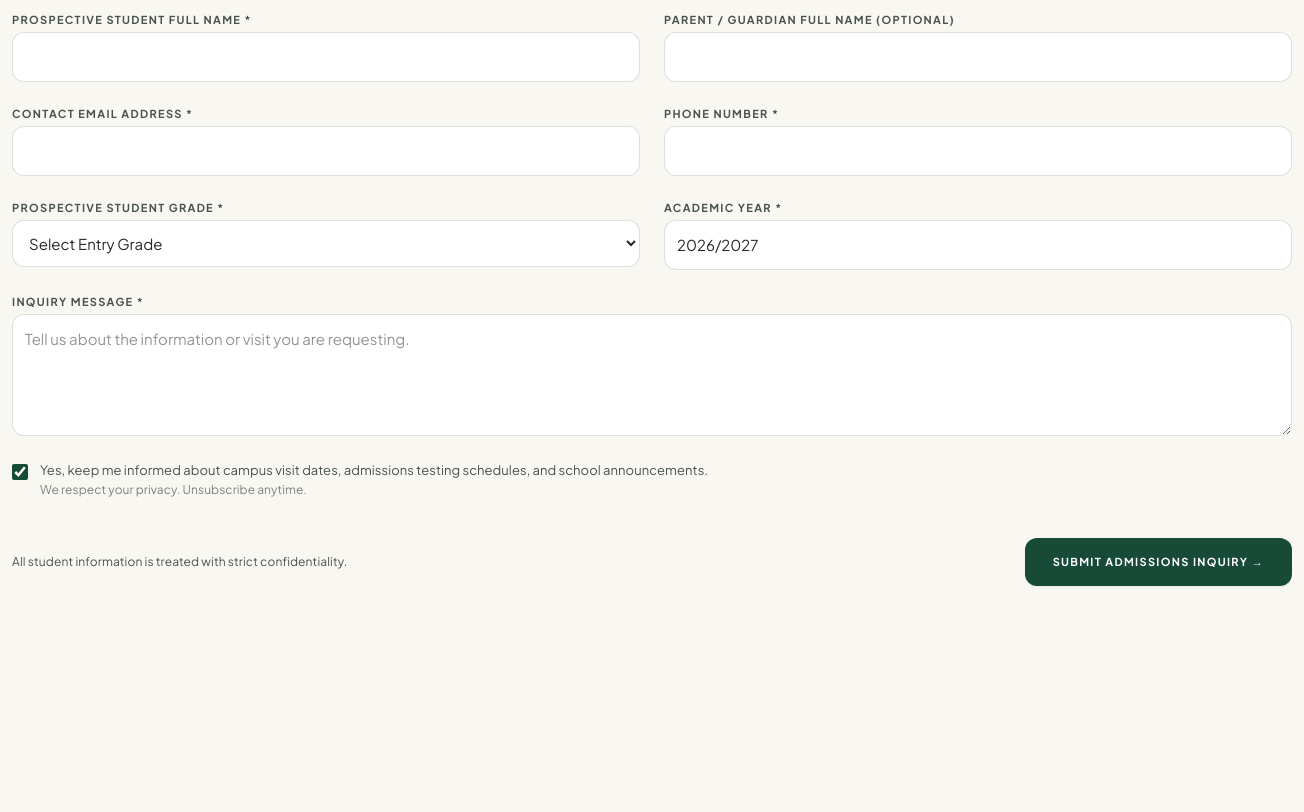
it: AdmissionInquiryForm › reports newsletter failure separately after admissions success
Type "Amina Bekele" into the field labelled "Prospective Student Full Name *" at [326, 57], box [12,32,640,82]
Type "Sara Bekele" into the field labelled "Parent / Guardian Full Name (optional)" at [978, 57], box [664,32,1292,82]
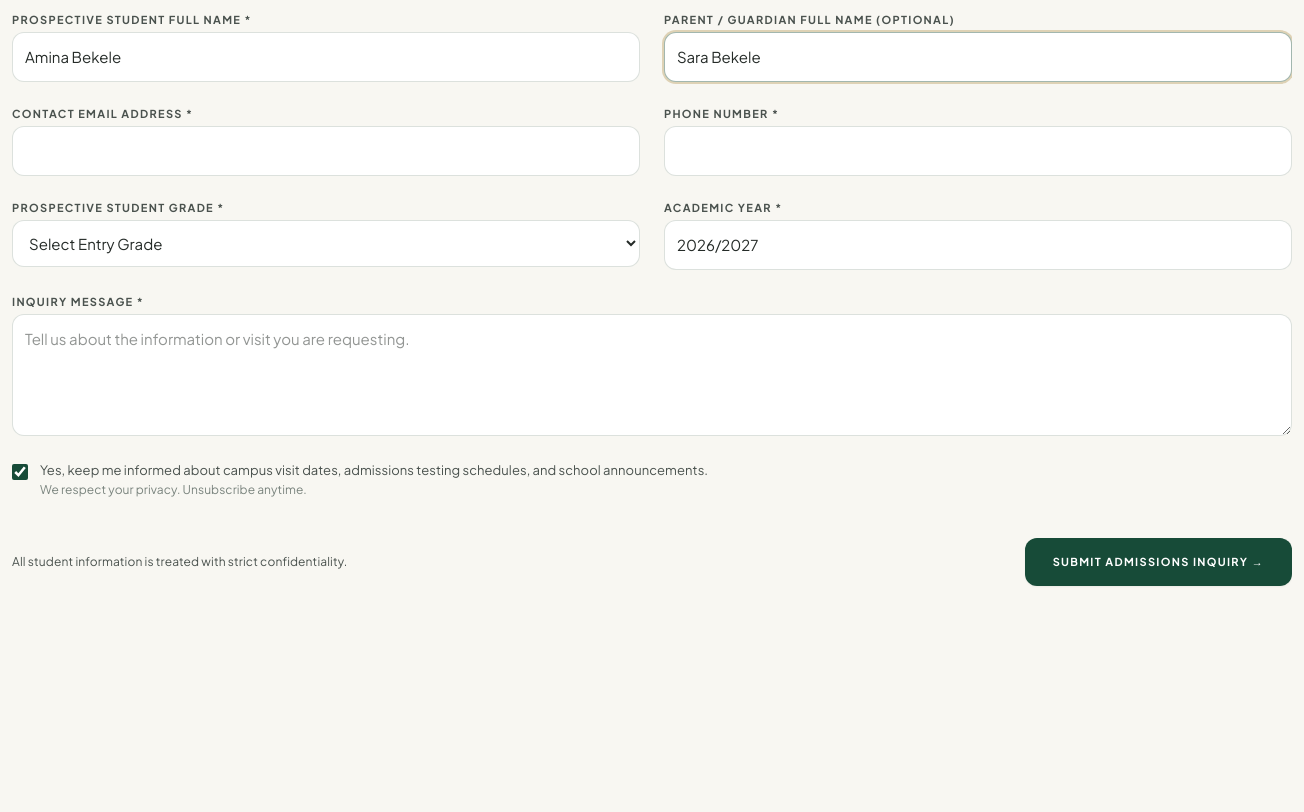
Type "amina@example.com" into the field labelled "Contact Email Address *" at [326, 151], box [12,126,640,176]
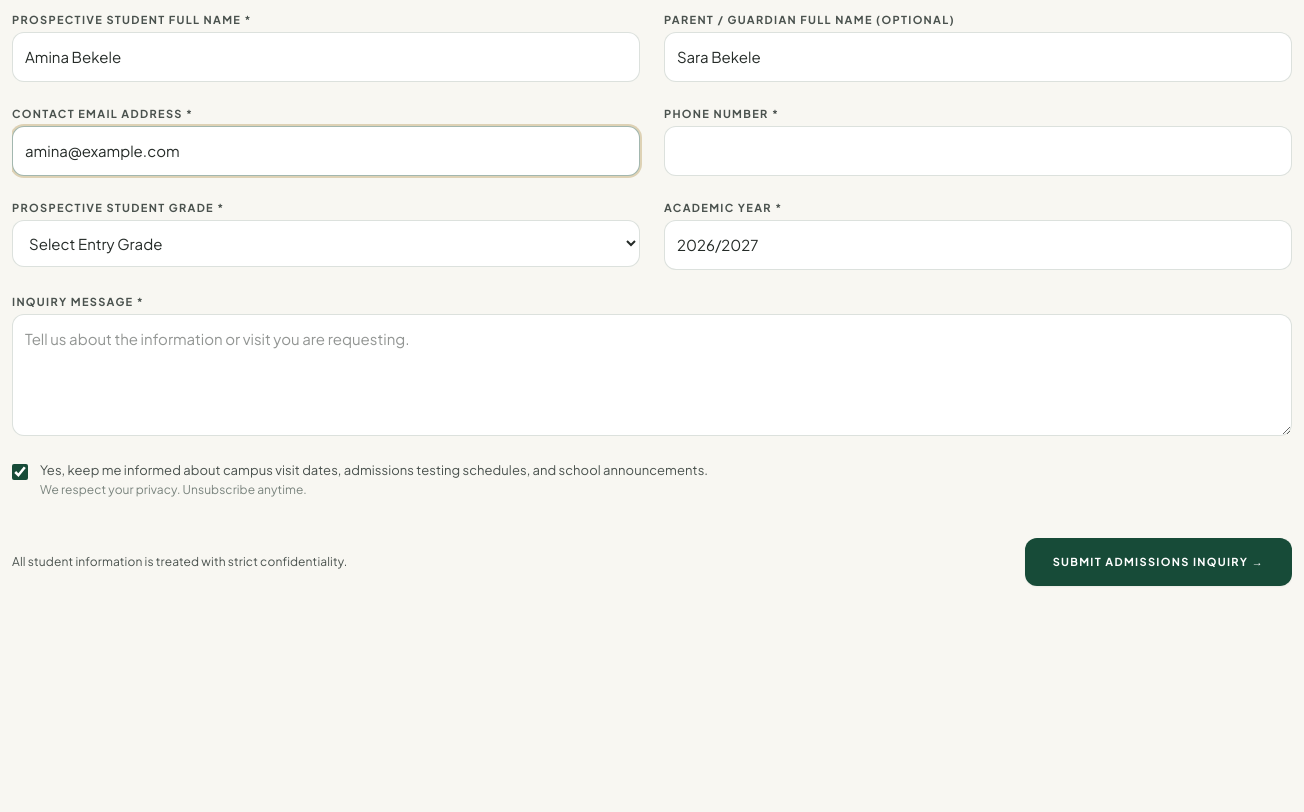
Type "+251911234567" into the field labelled "Phone Number *" at [978, 151], box [664,126,1292,176]
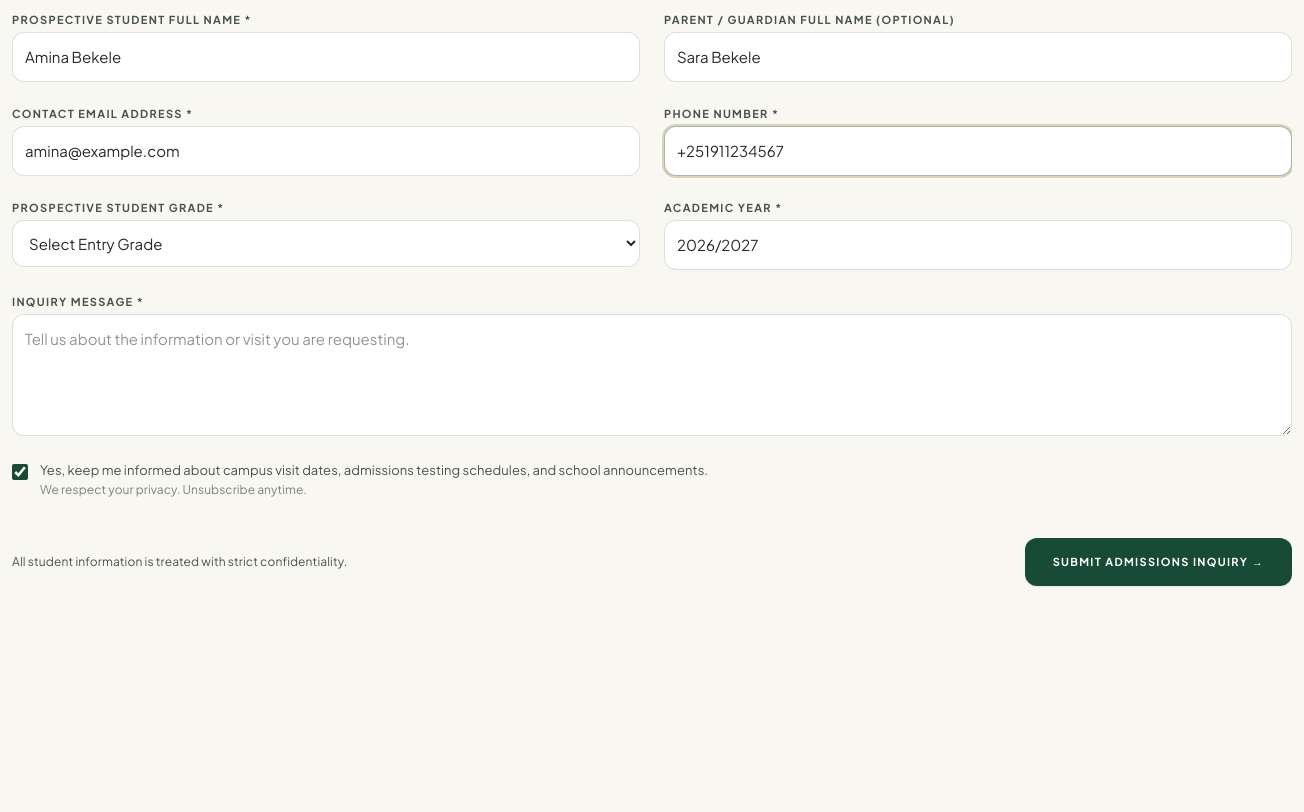
Select "Grade 9" in the dropdown labelled "Prospective Student Grade *" at [326, 244], box [12,220,640,267]
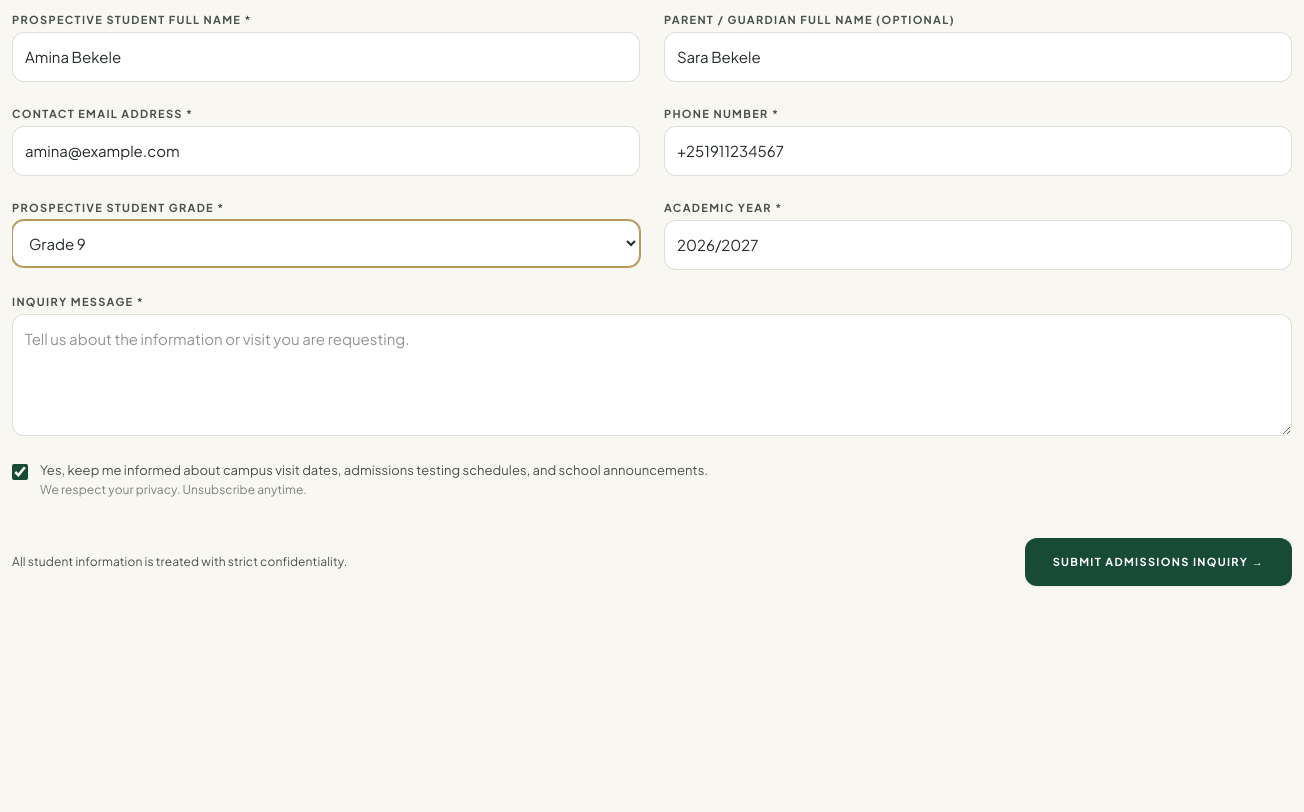
Type "Please send Grade 9 curriculum information." into the text box labelled "Inquiry Message *" at [652, 375], box [12,314,1292,436]
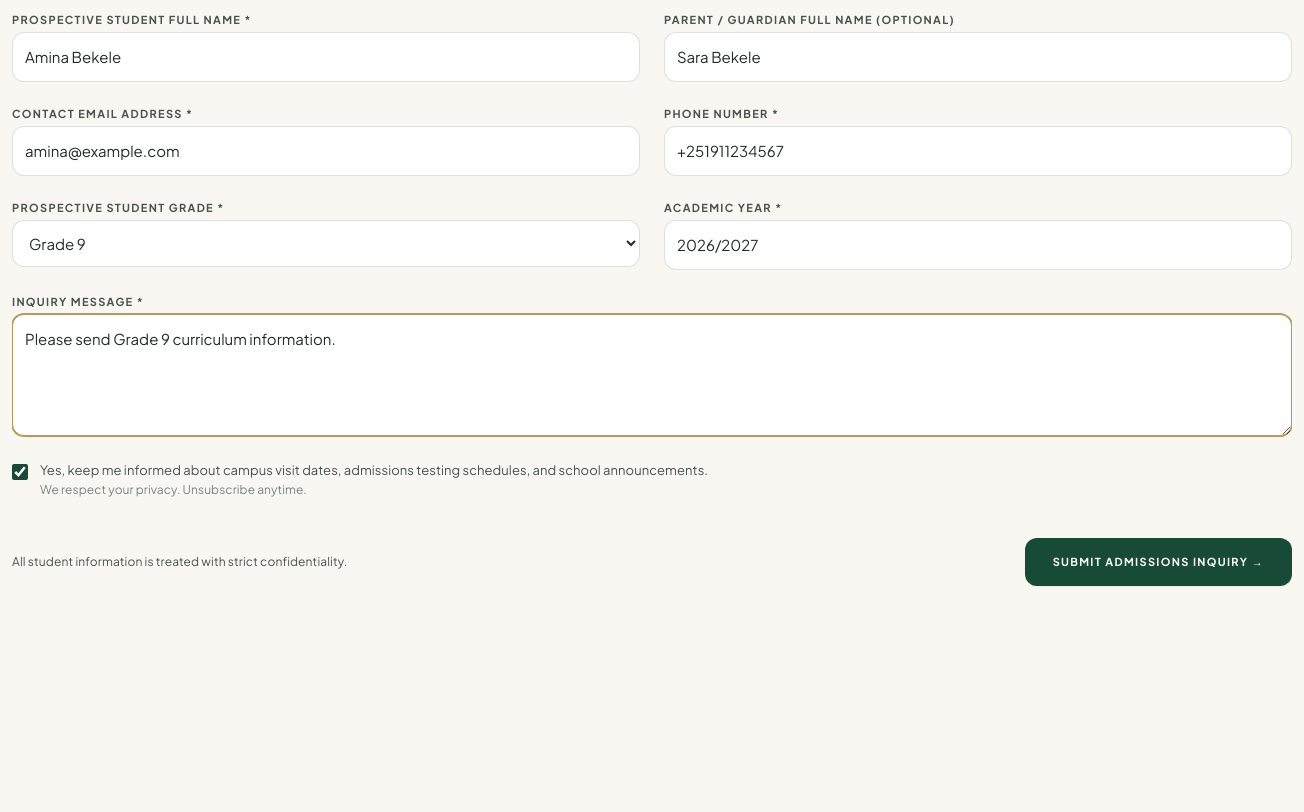
Click the button "Submit Admissions Inquiry →" at [1158, 562], box [1025,538,1292,586]
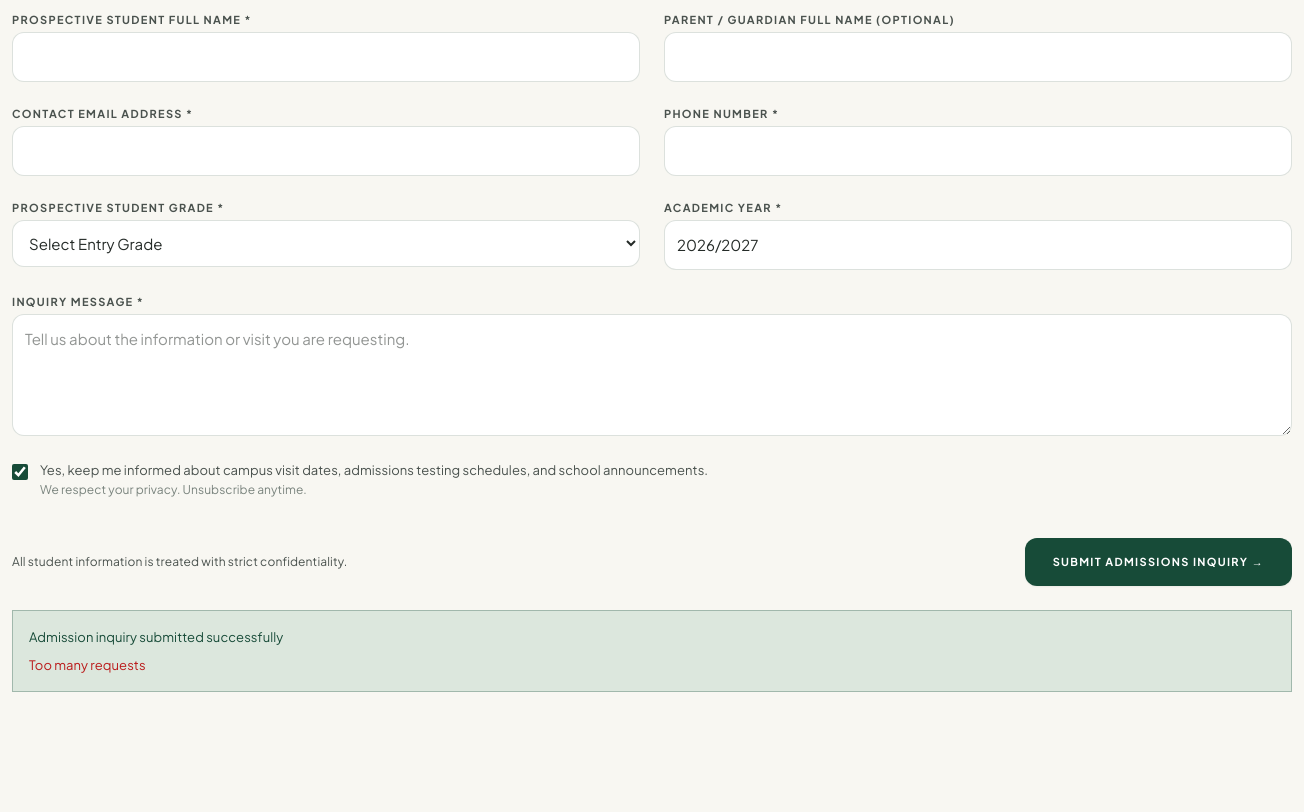
Expected: the text "Admission inquiry submitted successfully" is shown, [29,629,283,645]
Expected: the text "Too many requests" is shown, [29,657,146,673]
